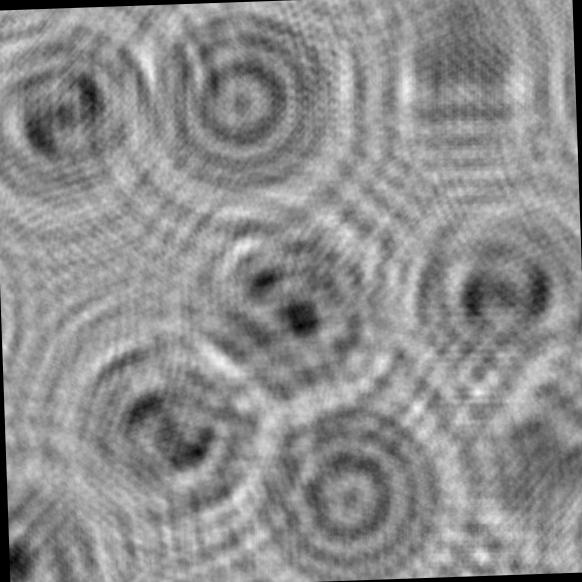P: (5, 437, 149, 582)
Q: (119, 0, 377, 249), (216, 357, 482, 582)
R: (155, 182, 429, 438)
S: (55, 318, 290, 549), (0, 4, 188, 250), (382, 200, 582, 401)
T: (357, 0, 579, 209), (429, 342, 582, 577)
